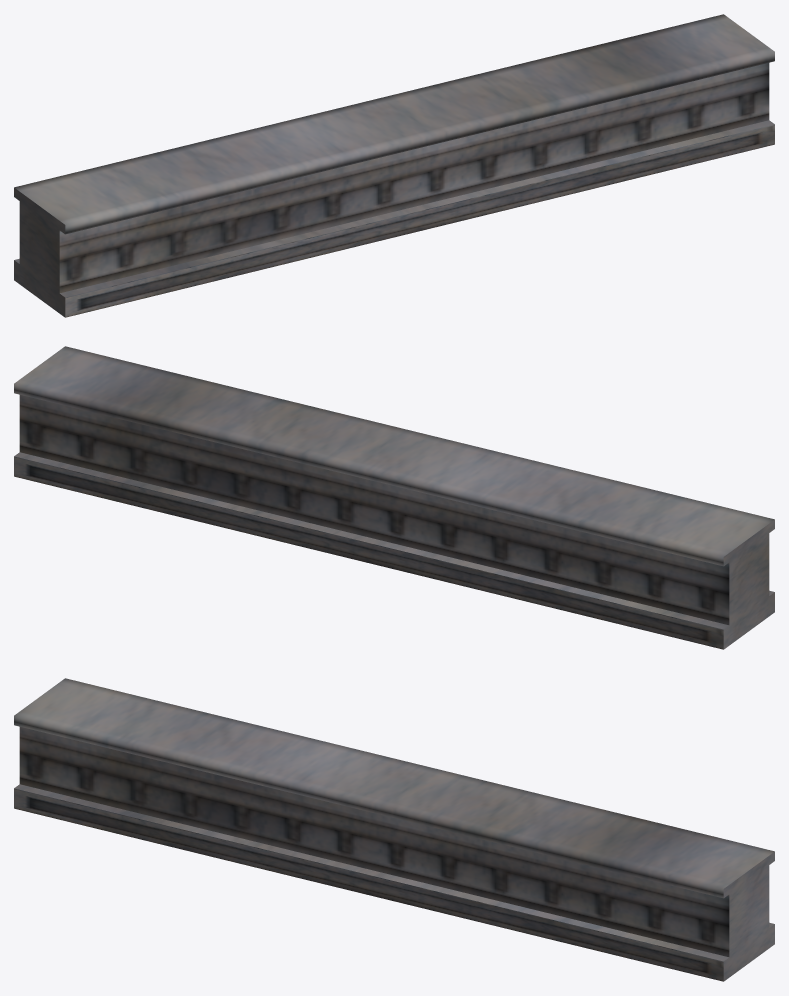
The model's file is railing_outside_01.glb.
3 views of the same model, one above another, from view 1: azimuth 30°, elevation 25°; view 2: azimuth 150°, elevation 25°; view 3: azimuth 330°, elevation 25° (orthographic).
Parts seen in each view (by area): view 1: railing_outside_01; view 2: railing_outside_01; view 3: railing_outside_01.
Part boxes in pixels (bbox=[...]): railing_outside_01: bbox=[14, 14, 774, 317]; railing_outside_01: bbox=[14, 346, 774, 649]; railing_outside_01: bbox=[14, 678, 774, 981].
Size of the model in its own units: 8 by 1 by 1.
Materials: 1 (1 with a texture image).
